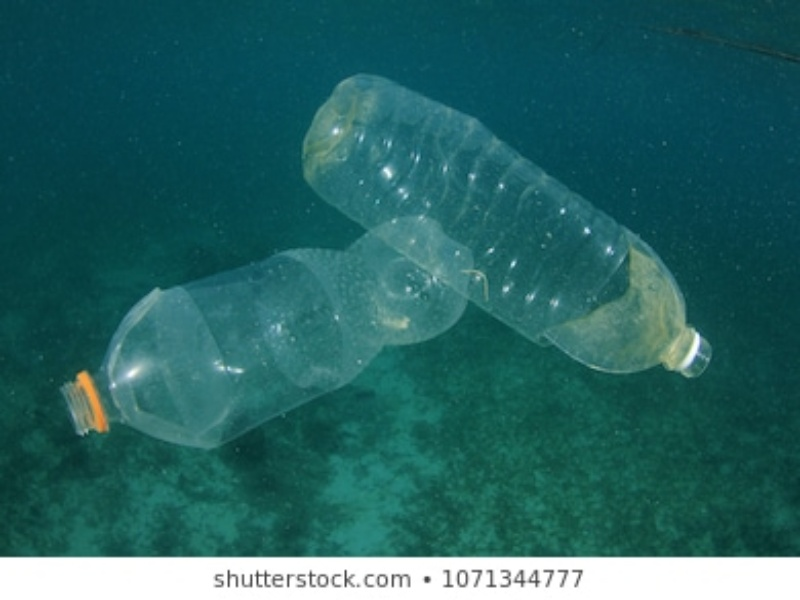plastic-bottle: (297, 71, 714, 379), (53, 218, 481, 448)
